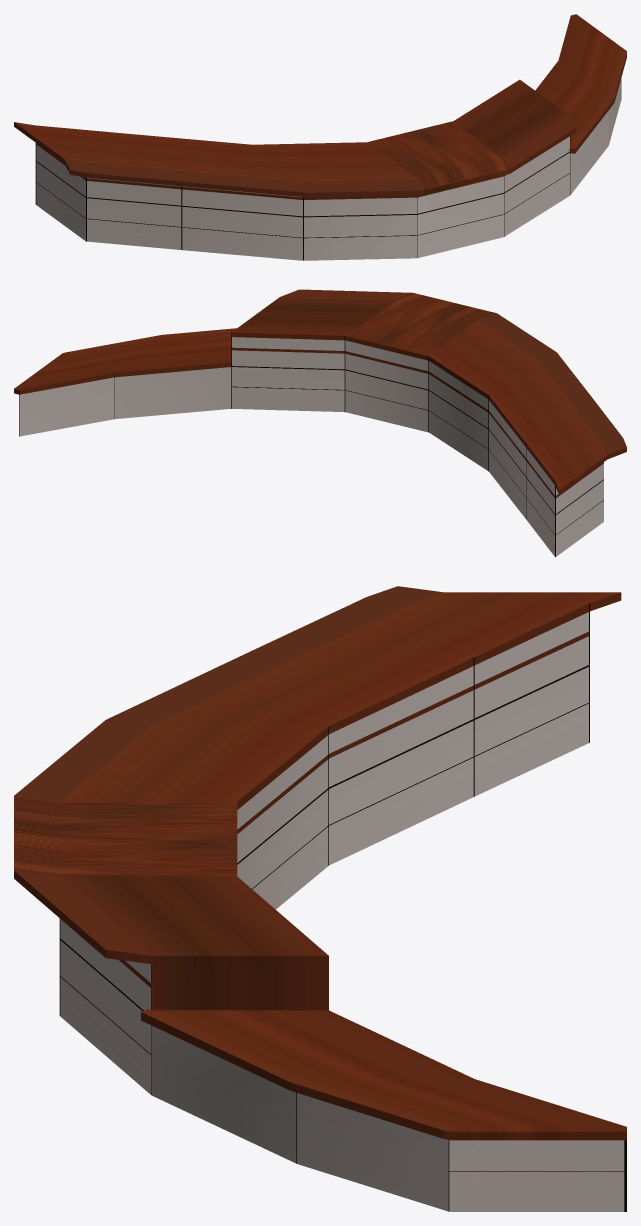
File: reception_desk.glb
3 renders of one model, top to bottom at view 1: azimuth 30°, elevation 25°; view 2: azimuth 150°, elevation 25°; view 3: azimuth 270°, elevation 25°, orthographic. The views are drawn at different scales.
Parts seen in each view (by area): view 1: Cube; view 2: Cube; view 3: Cube.
Part boxes in pixels (x1=…): Cube: x1=14, y1=14, x2=626, y2=260; Cube: x1=14, y1=289, x2=626, y2=557; Cube: x1=14, y1=586, x2=626, y2=1211.
Size of the model in its own units: 27.52 by 3.65 by 14.52.
3 materials, 2 textured.
